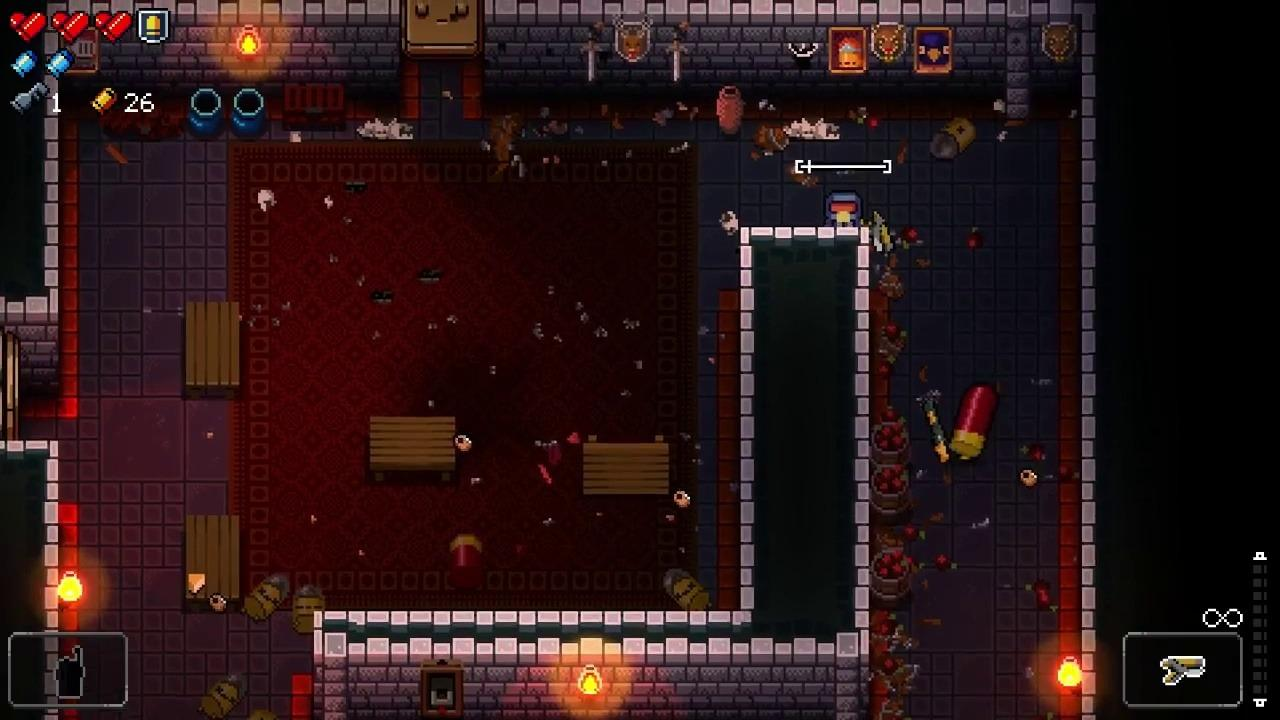dead_bullet_kin: (197, 671, 249, 720), (240, 572, 289, 623), (662, 567, 712, 611), (932, 115, 977, 159), (292, 582, 325, 634)
dead_red_shotgun_kin: (449, 533, 483, 587)
locked_door: (401, 0, 486, 58)
player: (825, 192, 864, 228)
red_shotgun_kin: (949, 384, 997, 462)
table: (368, 416, 457, 484), (583, 435, 669, 496), (186, 301, 240, 398), (185, 515, 241, 607)
